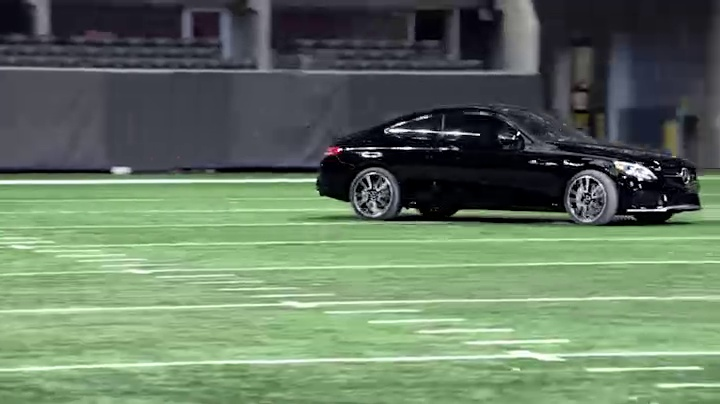amg: (318, 102, 704, 229)
